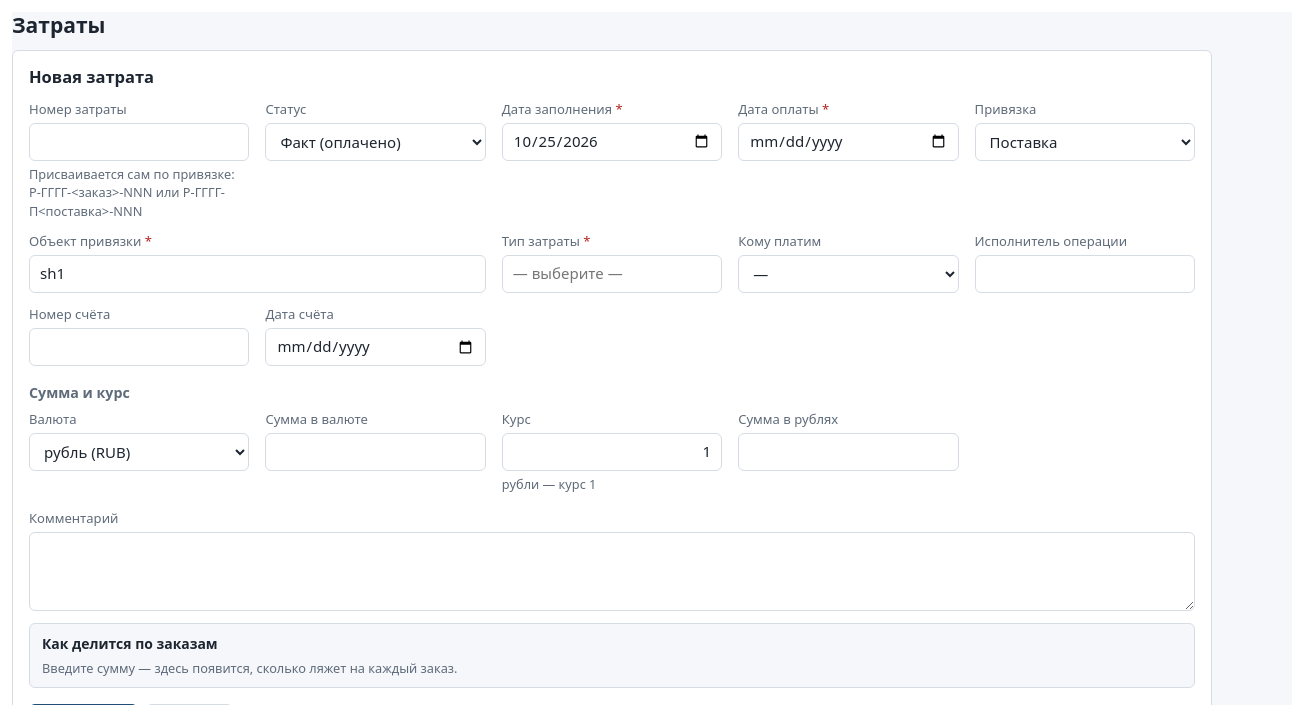
разбивка затраты поставки по заказам в форме (G31) › поставка без партий — вся сумма «не распределена»
In the dropdown labelled "Тип затраты *": (612, 274) [502, 255, 722, 293], type "Доставка"
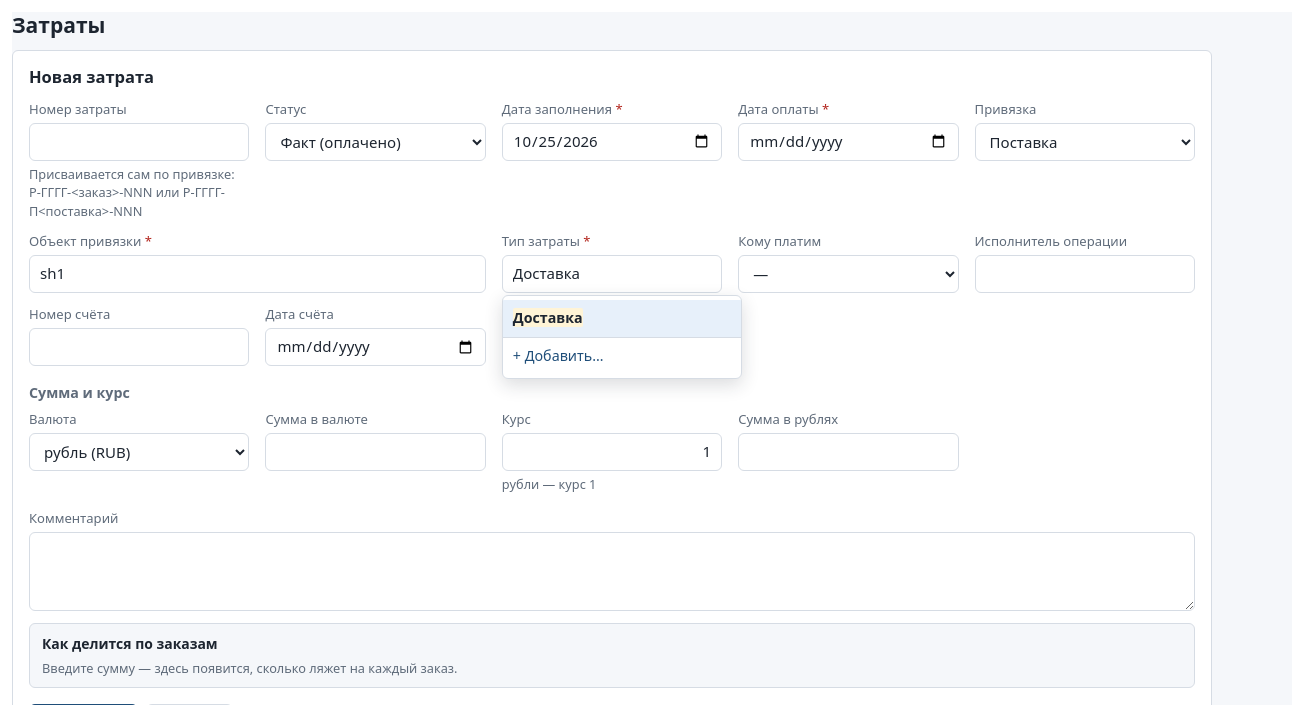
In the field labelled "Сумма в валюте": (376, 452) [265, 433, 486, 471], type "5000"
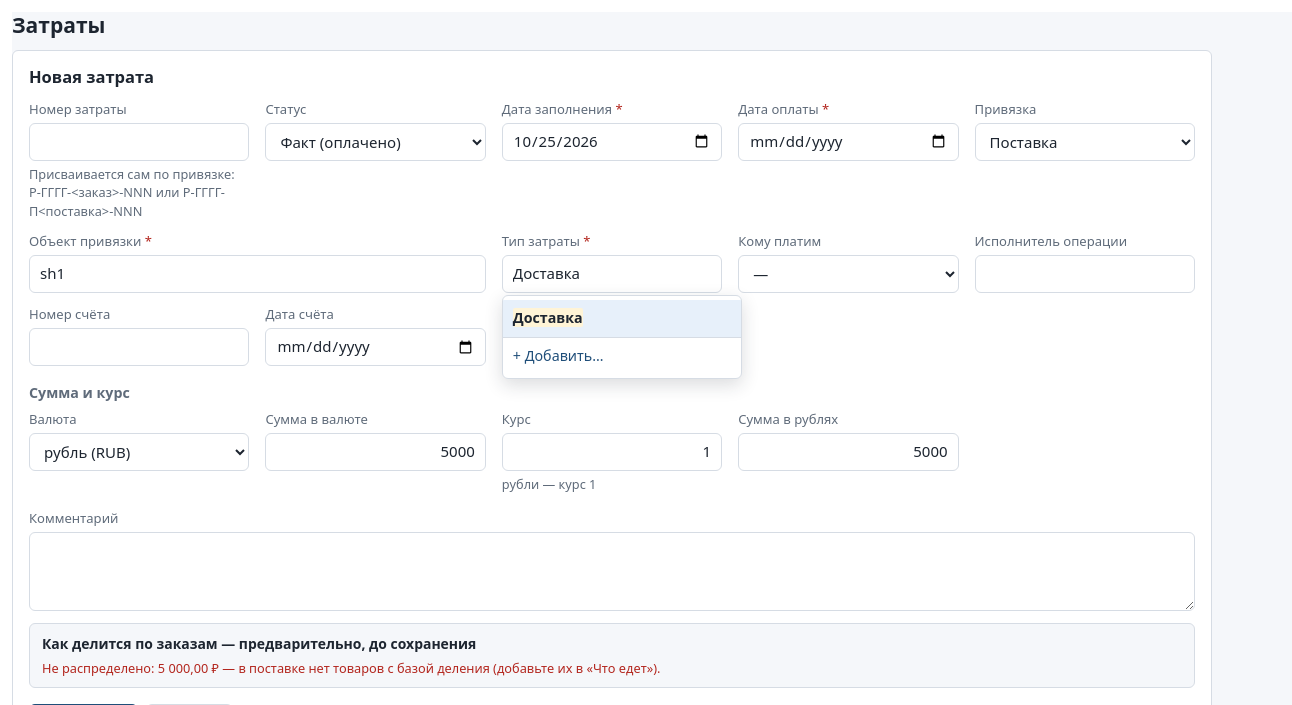
Expected: the element "Как делится по заказам" shows "Не распределено: 5 000,00 ₽", [29, 623, 1195, 688]
